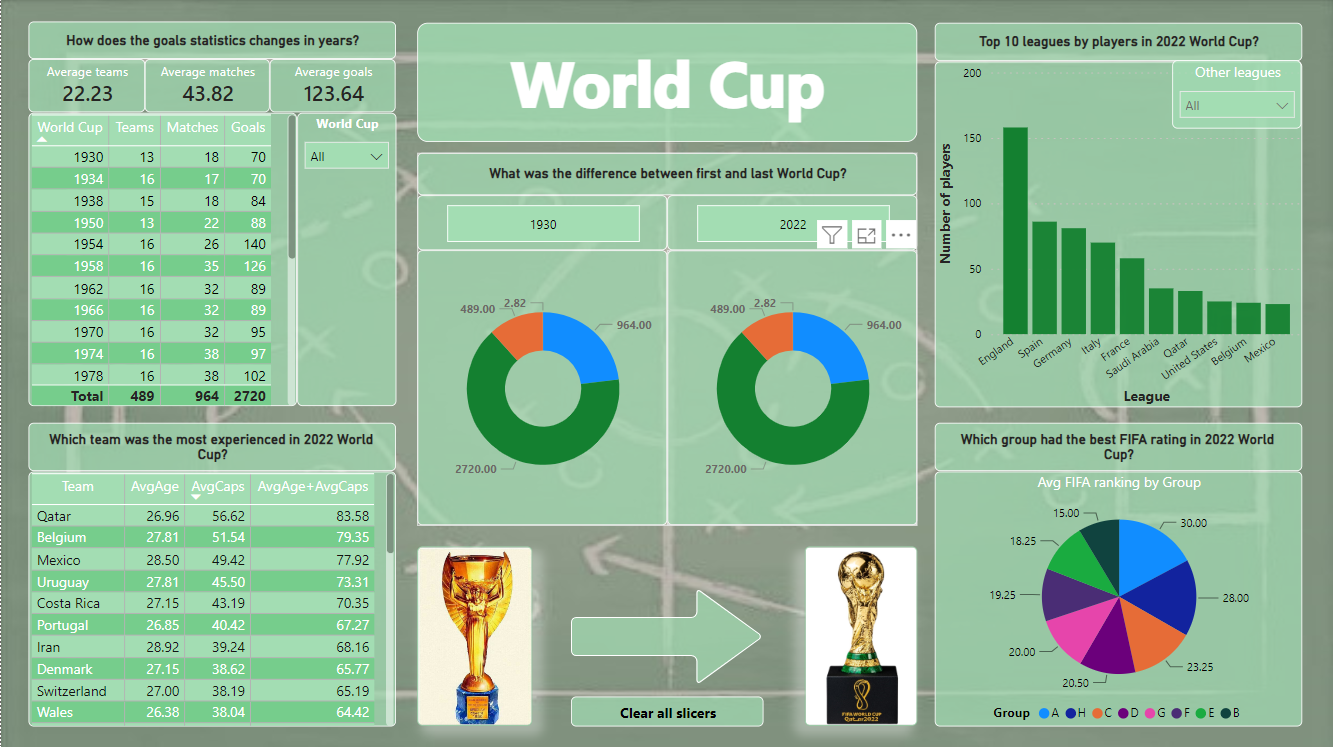

The dashboard page shown, as its layout file describes it:
{"tool":"powerbi","page":{"name":"Report","canvas":[1280,720],"ordinal":1},"visuals":[{"type":"image","box":[0,0,1280,720],"z":0},{"type":"tableEx","fields":{"Values":["world_cups.Year","Sum(world_cups.Qualified Teams)","Sum(world_cups.Matches Played)","Sum(world_cups.Goals Scored)"]},"box":[26.2,109.3,257.6,281.9],"z":1000,"group":"g4"},{"type":"donutChart","fields":{"Y":["Sum(world_cups.Matches Played)","Sum(world_cups.Goals Scored)","Sum(world_cups.Qualified Teams)","world_cups.Sum goals/match"]},"box":[399.6,241.2,240,264],"z":1000,"group":"g5"},{"type":"group","id":"g1","title":"Group 5","box":[896.2,406.2,352.5,291.2],"z":1000},{"type":"card","fields":{"Values":["Min(Questions.Q2)"]},"box":[896.2,406.2,352.5,46.6],"z":1000,"group":"g6"},{"type":"card","fields":{"Values":["Min(Questions.Q3)"]},"box":[896.4,22.8,352.5,37],"z":2000,"group":"g3"},{"type":"card","title":"Average teams","fields":{"Values":["world_cups.Avg teams"]},"box":[26.2,57.7,111.8,51.6],"z":2000,"group":"g4"},{"type":"slicer","fields":{"Values":["world_cups.Year"]},"box":[399.6,188.4,240,52.8],"z":2000,"group":"g5"},{"type":"group","id":"g2","title":"Group 4","box":[26.2,406.2,352.5,291.2],"z":2000},{"type":"group","id":"g3","title":"Group 1","box":[896.4,22.8,352.8,368.4],"z":3000},{"type":"slicer","title":"World Cup","fields":{"Values":["world_cups.Year"]},"box":[283.8,109.3,94.8,281.9],"z":3000,"group":"g4"},{"type":"card","fields":{"Values":["Min(Questions.Q5)"]},"box":[399.6,147.6,480,40.8],"z":3000,"group":"g5"},{"type":"card","fields":{"Values":["Min(Table.Title)"]},"box":[399.6,22.8,480,114],"z":4000},{"type":"card","title":"Average matches","fields":{"Values":["world_cups.Avg matches"]},"box":[138,57.7,119.7,51.6],"z":4000,"group":"g4"},{"type":"slicer","fields":{"Values":["world_cups.Year"]},"box":[639.6,188.4,240,52.8],"z":5000,"group":"g5"},{"type":"card","fields":{"Values":["Min(Questions.Q4)"]},"box":[26.2,406.2,352.5,46.6],"z":5000,"group":"g2"},{"type":"image","box":[399.6,525.6,110.4,171.6],"z":5000},{"type":"card","title":"Average goals","fields":{"Values":["world_cups.Avg goals"]},"box":[257.7,57.7,121,51.6],"z":6000,"group":"g4"},{"type":"shape","box":[547.2,565.2,184.8,93.6],"z":6000},{"type":"pieChart","fields":{"Category":["2022_world_cup_groups.Group"],"Y":["2022_world_cup_groups.Avg fifa ranking"]},"box":[896.2,452.8,352.5,244.7],"z":6002,"group":"g6"},{"type":"clusteredColumnChart","fields":{"Y":["CountNonNull(2022_world_cup_squads.Player)"],"Category":["2022_world_cup_squads.League"]},"box":[896.4,59.8,352.5,331.7],"z":6007,"group":"g3"},{"type":"donutChart","title":"World Cup 2022 Qatar","fields":{"Y":["Sum(world_cups.Matches Played)","Sum(world_cups.Goals Scored)","Sum(world_cups.Qualified Teams)","world_cups.Sum goals/match"]},"box":[639.6,241.2,240,264],"z":7000,"group":"g5"},{"type":"image","box":[771.6,525.6,108,171.6],"z":7000},{"type":"slicer","title":"Other leagues","fields":{"Values":["2022_world_cup_squads.League"]},"box":[1124.6,59.3,124.3,65.4],"z":7001,"group":"g3"},{"type":"group","id":"g4","title":"Group 3","box":[26.2,21.2,352.5,370],"z":8000},{"type":"card","fields":{"Values":["Min(Questions.Q1)"]},"box":[26.2,21.2,352.5,36.2],"z":8000,"group":"g4"},{"type":"group","id":"g5","title":"Group 6","box":[399.6,147.6,480,357.6],"z":9000},{"type":"actionButton","box":[547.2,669.6,184.8,28.8],"z":10000},{"type":"tableEx","fields":{"Values":["2022_world_cup_squads.Team","2022_world_cup_squads.Avg age","2022_world_cup_squads.Avg caps","2022_world_cup_squads.avg age + avg caps"]},"box":[26.2,452.8,352.5,244.7],"z":13000,"group":"g2"},{"type":"group","id":"g6","title":"Group 2","box":[896.2,406.2,352.5,291.2],"z":13001,"group":"g1"}]}

Visuals, with their boxes in screenshot pixels (x1, y1, x2, y2), scaled from the page's 1280x720 canvas onto the 1333x747 screenshot:
image: 0/0/1332/746
tableEx - world_cups.Year x Sum(world_cups.Qualified Teams): 27/113/296/406
donutChart - Sum(world_cups.Matches Played) x Sum(world_cups.Goals Scored): 416/250/666/524
"Group 5" group: 933/421/1300/724
card - Min(Questions.Q2): 933/421/1300/470
card - Min(Questions.Q3): 934/24/1301/62
"Average teams" card: 27/60/144/113
slicer - world_cups.Year: 416/195/666/250
"Group 4" group: 27/421/394/724
"Group 1" group: 934/24/1301/406
"World Cup" slicer: 296/113/394/406
card - Min(Questions.Q5): 416/153/916/195
card - Min(Table.Title): 416/24/916/142
"Average matches" card: 144/60/268/113
slicer - world_cups.Year: 666/195/916/250
card - Min(Questions.Q4): 27/421/394/470
image: 416/545/531/723
"Average goals" card: 268/60/394/113
shape: 570/586/762/684
pieChart - 2022_world_cup_groups.Group x 2022_world_cup_groups.Avg fifa ranking: 933/470/1300/724
clusteredColumnChart - CountNonNull(2022_world_cup_squads.Player) x 2022_world_cup_squads.League: 934/62/1301/406
"World Cup 2022 Qatar" donutChart: 666/250/916/524
image: 804/545/916/723
"Other leagues" slicer: 1171/62/1301/129
"Group 3" group: 27/22/394/406
card - Min(Questions.Q1): 27/22/394/60
"Group 6" group: 416/153/916/524
actionButton: 570/695/762/725
tableEx - 2022_world_cup_squads.Team x 2022_world_cup_squads.Avg age: 27/470/394/724
"Group 2" group: 933/421/1300/724
